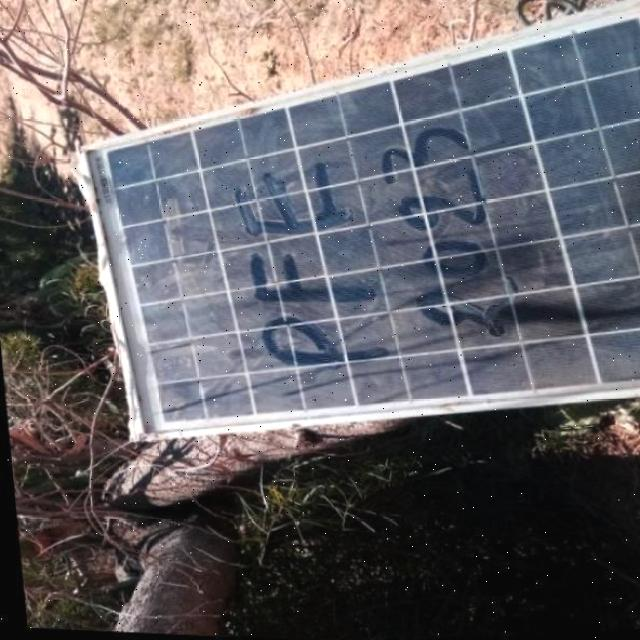Anomaly Solar Panel: (92, 10, 640, 442)
Surface Contaminant: (125, 121, 593, 449), (570, 135, 640, 394)
